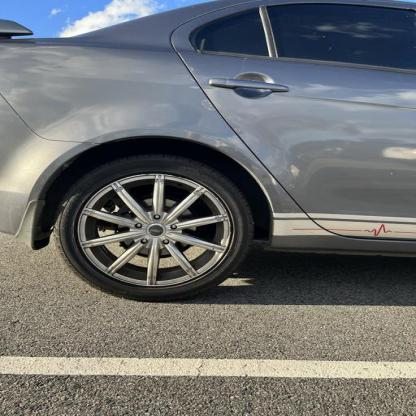Tire: (52, 154, 257, 302)
